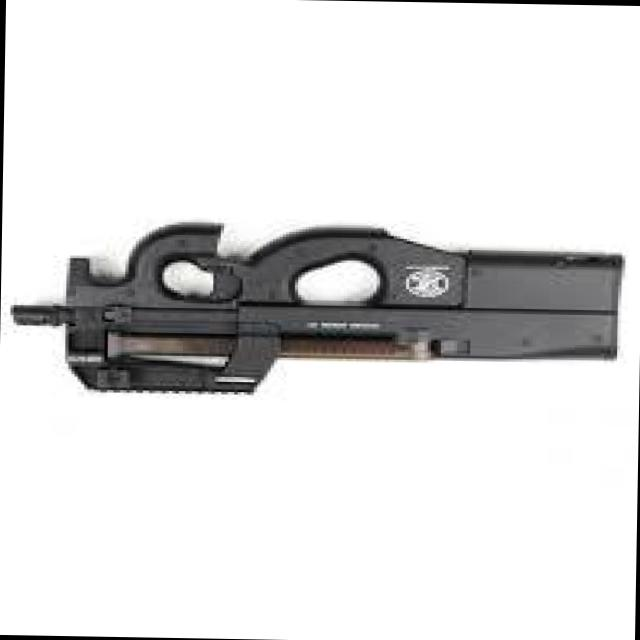Gun: (1, 158, 640, 454)
